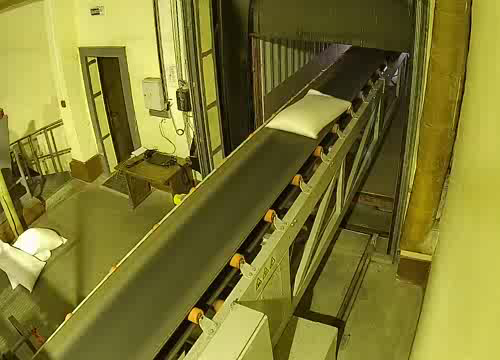bag: (261, 86, 356, 143)
